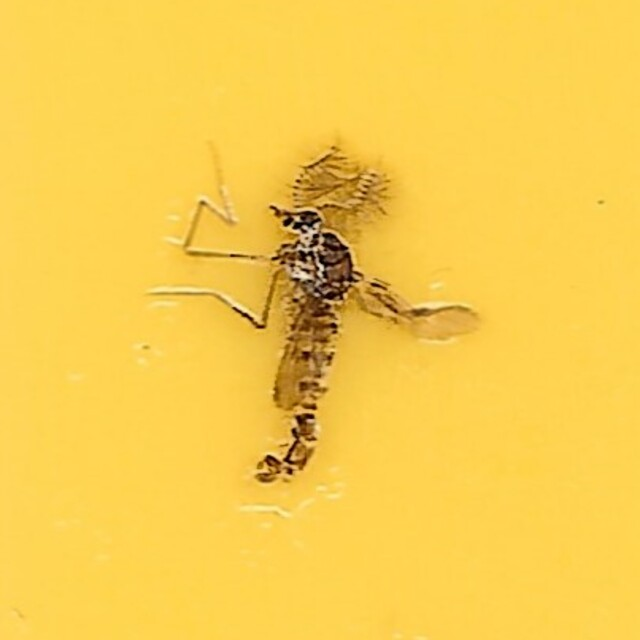Nematocera: (159, 143, 481, 497)
